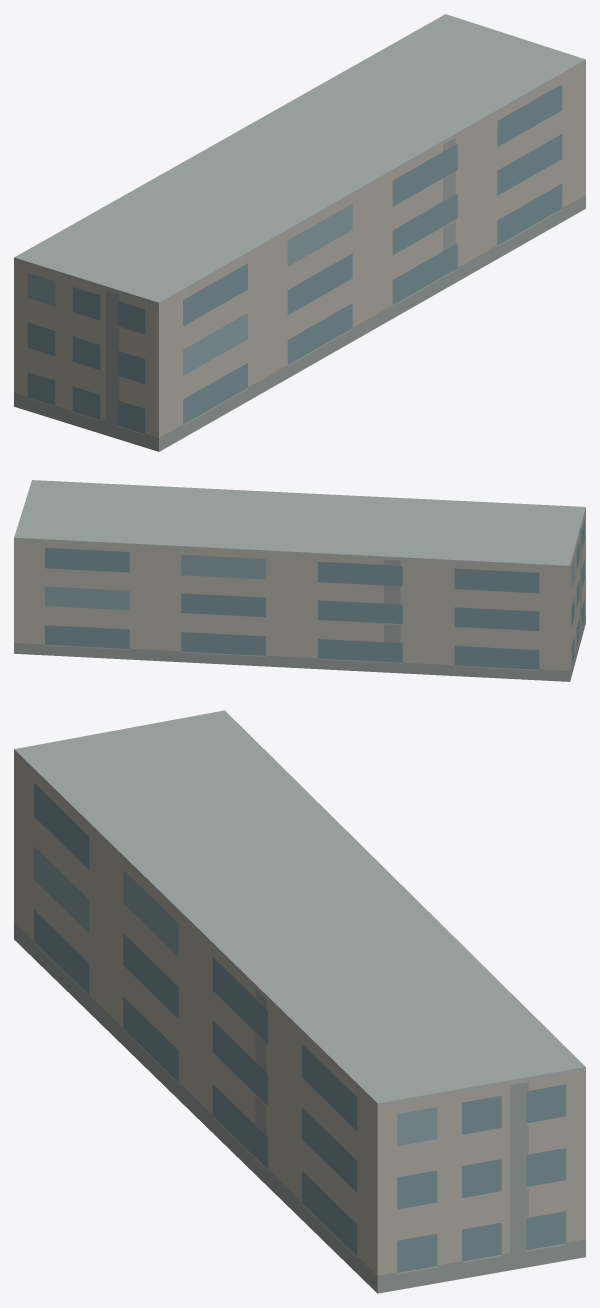
The model's file is survey-upis-32585651.glb.
The picture shows the model from 3 angles, top to bottom: view 1: azimuth 30°, elevation 25°; view 2: azimuth 150°, elevation 25°; view 3: azimuth 270°, elevation 25°; orthographic projection. The views are drawn at different scales.
Parts seen in each view (by area): view 1: survey-upis-32585651.tmp; view 2: survey-upis-32585651.tmp; view 3: survey-upis-32585651.tmp.
Boxes of the visible parts, x1,y1,x2,y2 form: survey-upis-32585651.tmp: (14, 14, 585, 451); survey-upis-32585651.tmp: (14, 480, 585, 681); survey-upis-32585651.tmp: (14, 710, 585, 1293).
Size of the model in its own units: 40.57 by 9.15 by 24.94.
